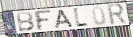0: (92, 6, 107, 26)
A: (55, 9, 75, 29)
B: (16, 11, 36, 32)
F: (33, 10, 53, 32)
L: (72, 7, 89, 29)
R: (106, 3, 128, 26)
